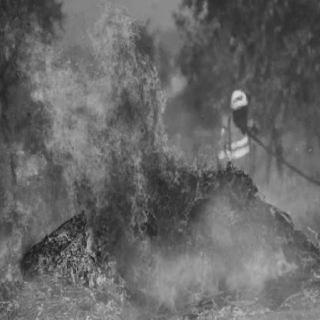Fire: (21, 22, 221, 292)
